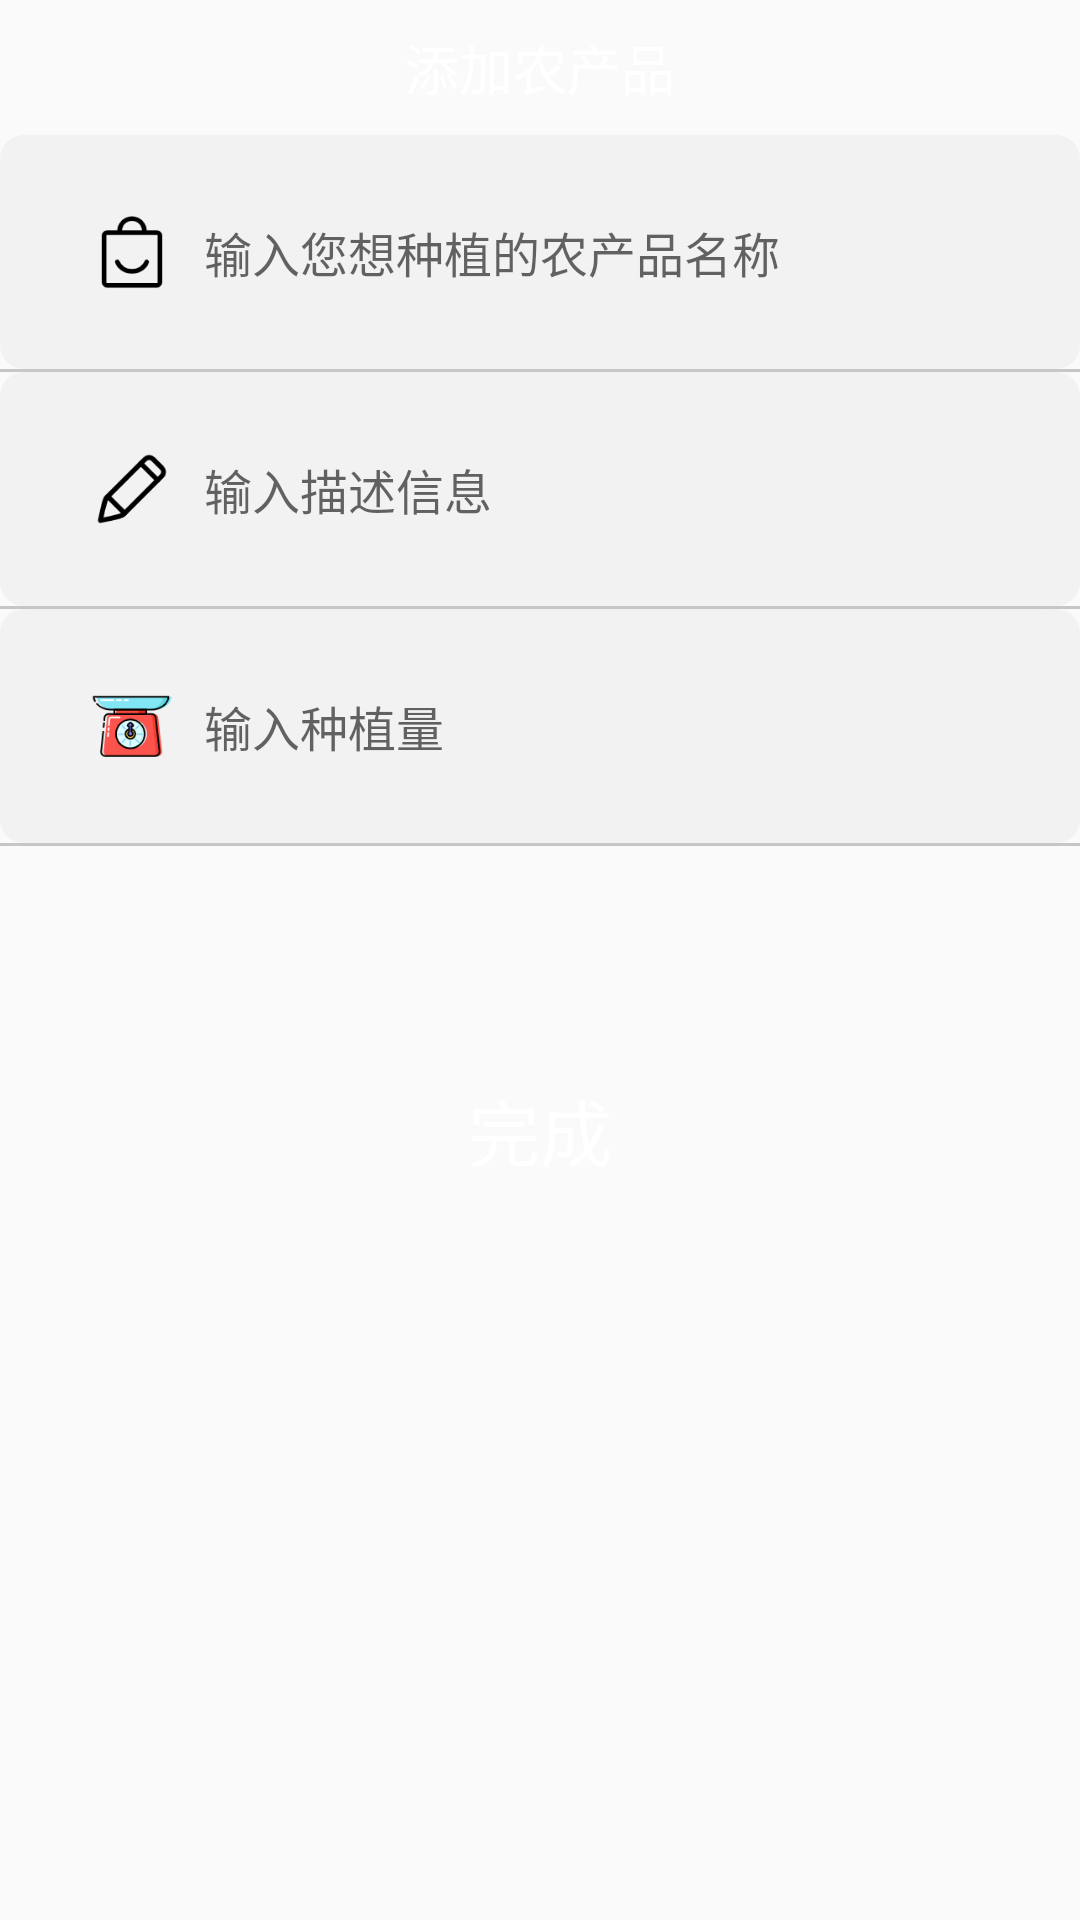

Screen size 1080x1920. Icon name, then its center in pixels as (x=x, y=y):
balance: (x=132, y=726)
